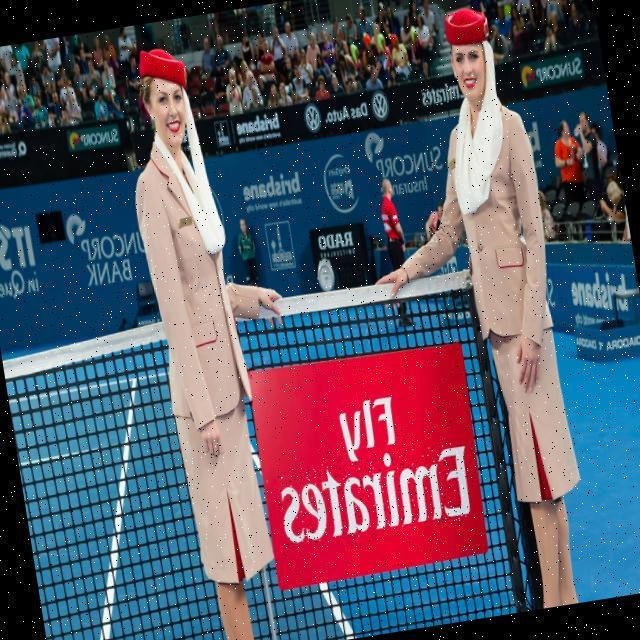Emirates: (274, 441, 477, 548), (420, 83, 462, 108), (328, 164, 352, 179)
